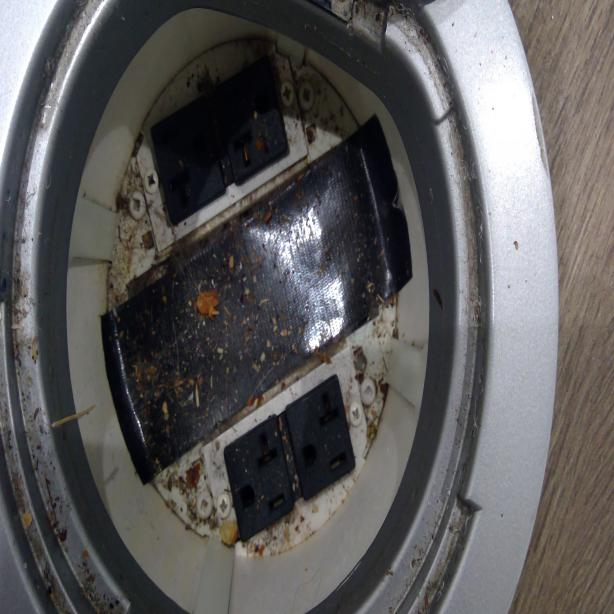typeb: (233, 435, 288, 520), (293, 401, 348, 480)
